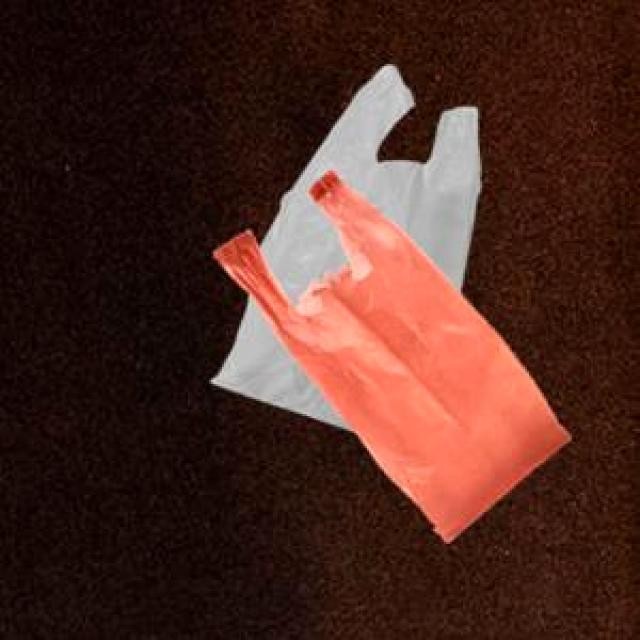Plastic_Bag: (210, 165, 567, 539), (208, 63, 477, 428)
